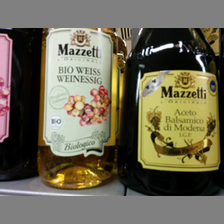vinegar: (125, 28, 224, 195), (40, 27, 119, 192)
